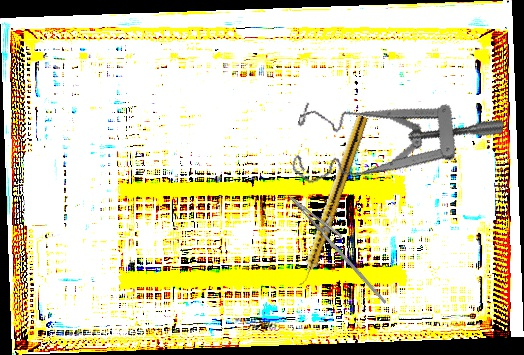Handpiece: (295, 113, 369, 289)
Needle Holder: (277, 187, 405, 304)
Speculum: (281, 60, 507, 234)
